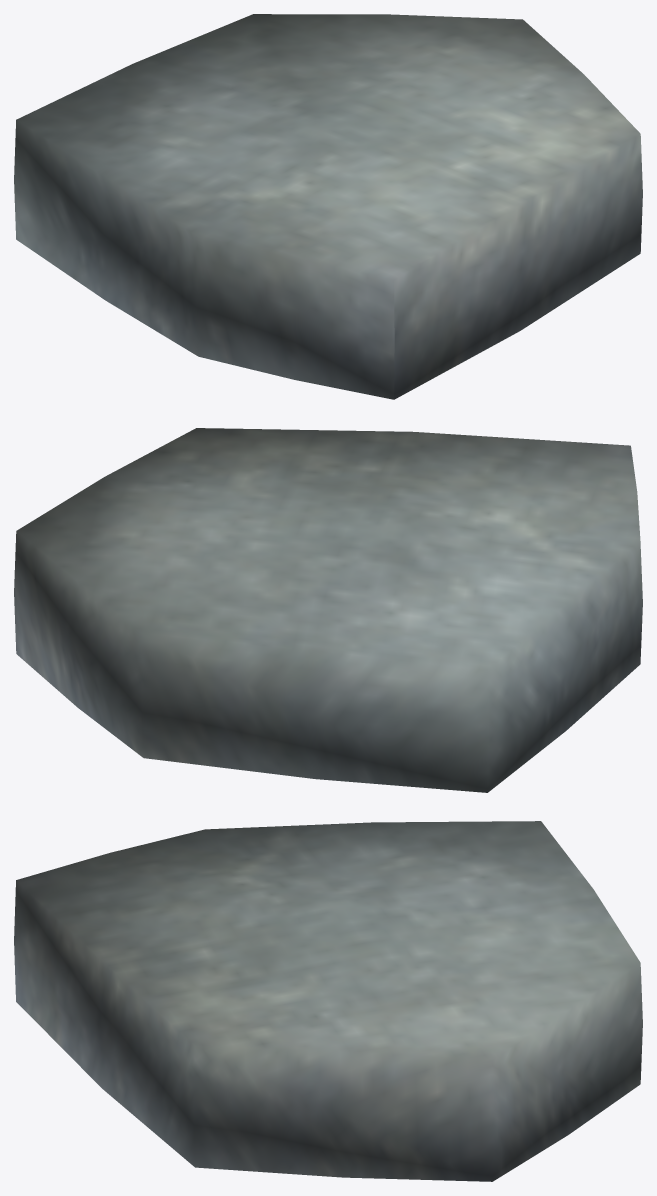
Rendered from rocks_004.fbx.
The picture shows the model from 3 angles, top to bottom: view 1: azimuth 30°, elevation 25°; view 2: azimuth 150°, elevation 25°; view 3: azimuth 270°, elevation 25°; orthographic projection. The views are drawn at different scales.
Parts seen in each view (by area): view 1: rocks.004; view 2: rocks.004; view 3: rocks.004.
Part boxes in pixels (<box>): rocks.004: <box>14,14,642,399</box>; rocks.004: <box>14,428,642,792</box>; rocks.004: <box>14,821,642,1181</box>.
Size of the model in its own units: 126 by 36.64 by 139.
